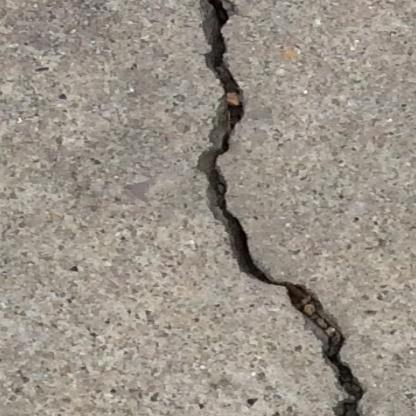Cracks: (190, 0, 376, 416)
